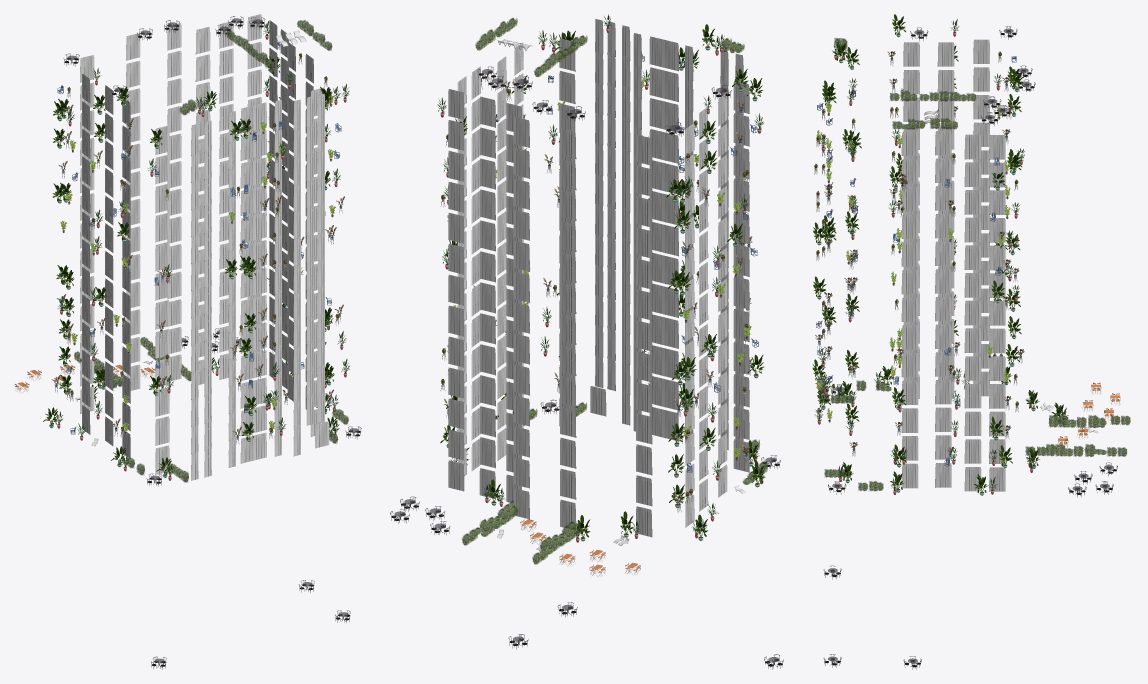
The model's file is plants.glb.
The picture shows the model from 3 angles, left to right: view 1: azimuth 30°, elevation 25°; view 2: azimuth 150°, elevation 25°; view 3: azimuth 270°, elevation 25°; orthographic projection. The views are drawn at different scales.
Visible parts, largest first — view 1: plant_build; view 2: plant_build; view 3: plant_build.
Part boxes in pixels (x1=…): plant_build: x1=14, y1=14, x2=361, y2=669; plant_build: x1=390, y1=14, x2=783, y2=669; plant_build: x1=812, y1=14, x2=1130, y2=669.
Size of the model in its own units: 32.78 by 73.5 by 38.11.
Materials: 12 (11 with a texture image).
